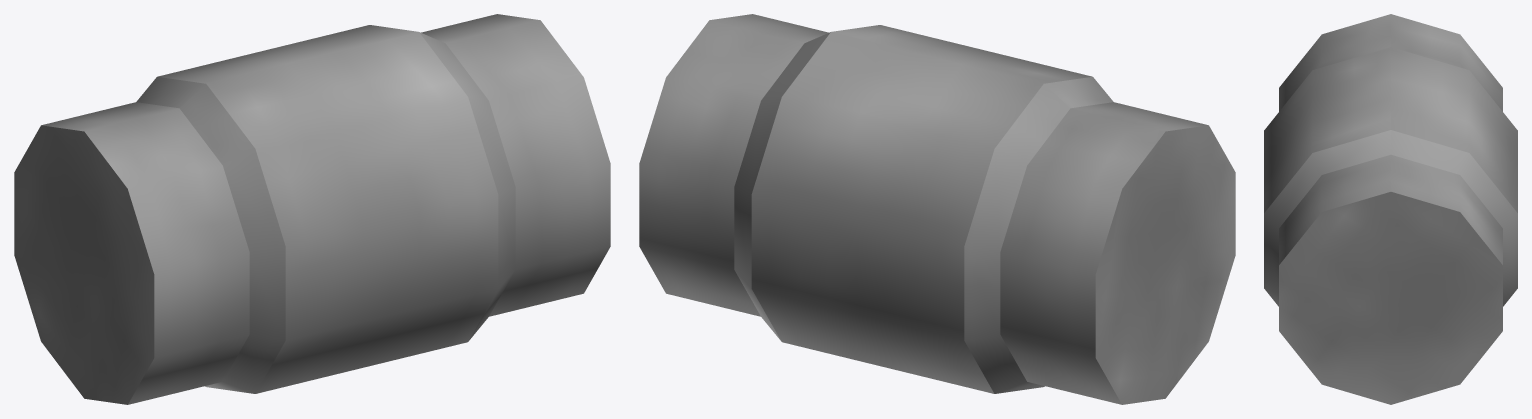
File: Conduit_Socket_1X.fbx
3 views of the same model, side by side, from view 1: azimuth 30°, elevation 25°; view 2: azimuth 150°, elevation 25°; view 3: azimuth 270°, elevation 25° (orthographic). The views are drawn at different scales.
Visible parts, largest first — view 1: Conduit_Socket_1X; view 2: Conduit_Socket_1X; view 3: Conduit_Socket_1X.
Boxes of the visible parts, x1=… form: Conduit_Socket_1X: x1=14, y1=14, x2=610, y2=404; Conduit_Socket_1X: x1=639, y1=14, x2=1235, y2=404; Conduit_Socket_1X: x1=1264, y1=14, x2=1517, y2=404.
Size of the model in its own units: 0.1 by 0.0635 by 0.0604.
